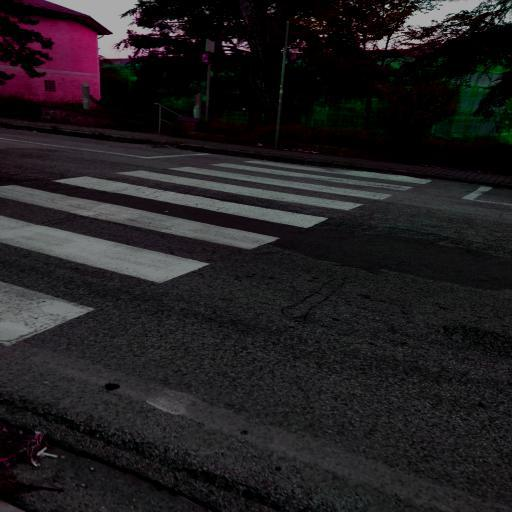crosswalk: (48, 168, 366, 231)
